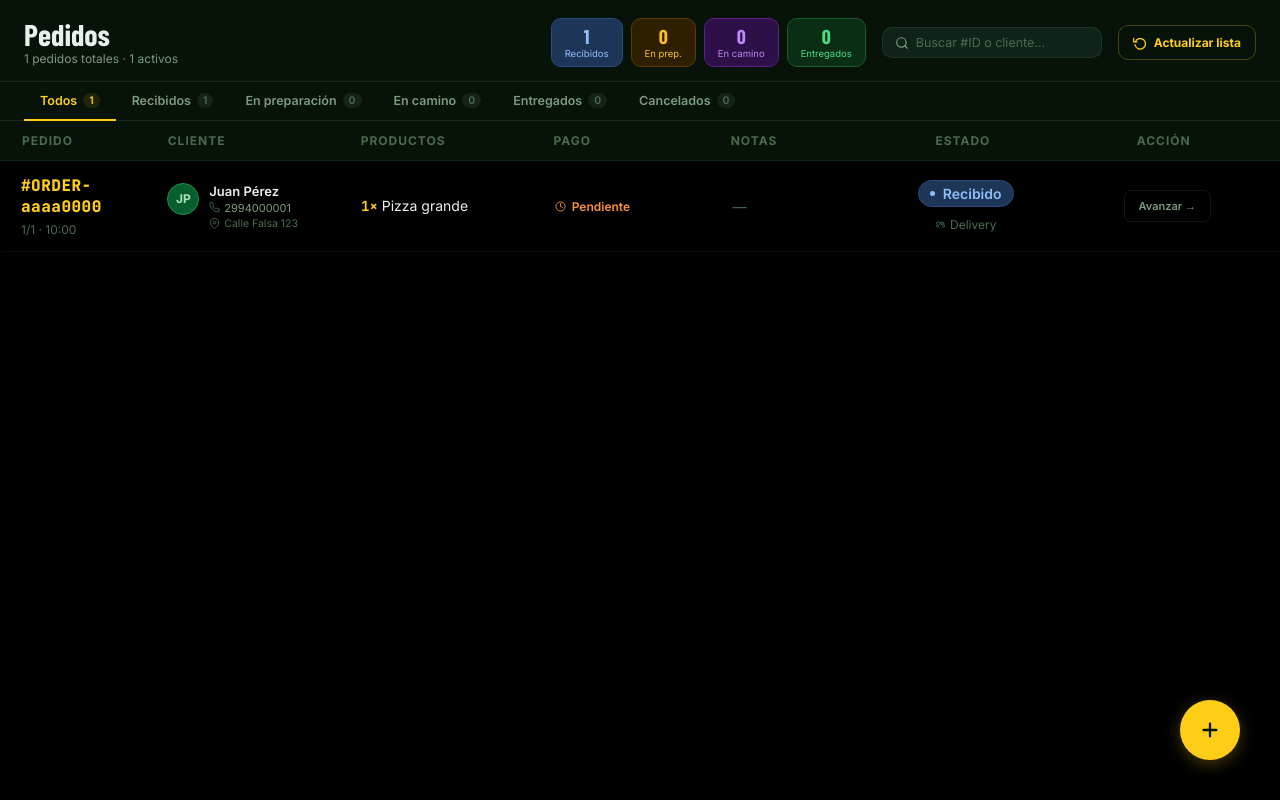
Test case: línea de descuento en el detalle (US-19-03) › muestra el monto descontado y el porcentaje
Click the element with class "orders-row" at (640, 206), box [0,161,1279,252]
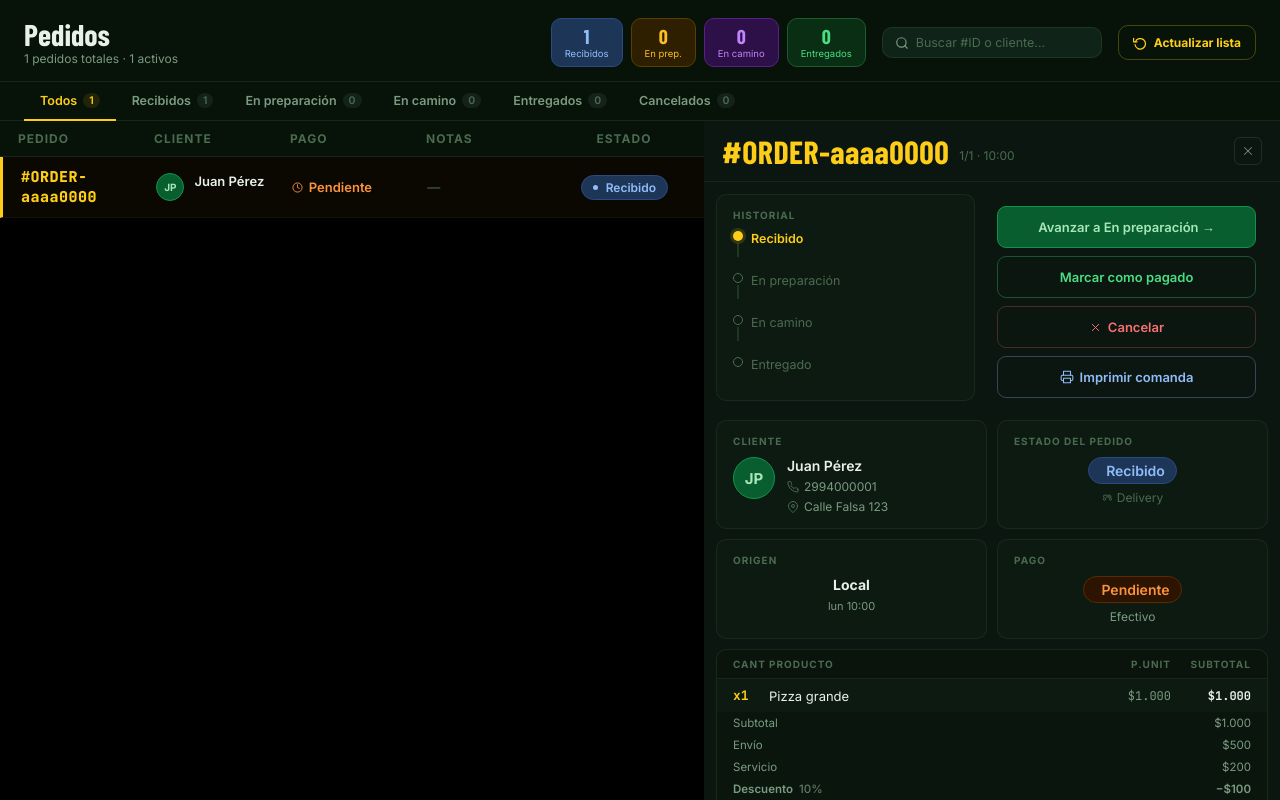
Now the text "10%" is shown, box [799,782,823,796]
Now the element with class "detail-discount-row" shows "−$100", box [717,778,1267,799]
